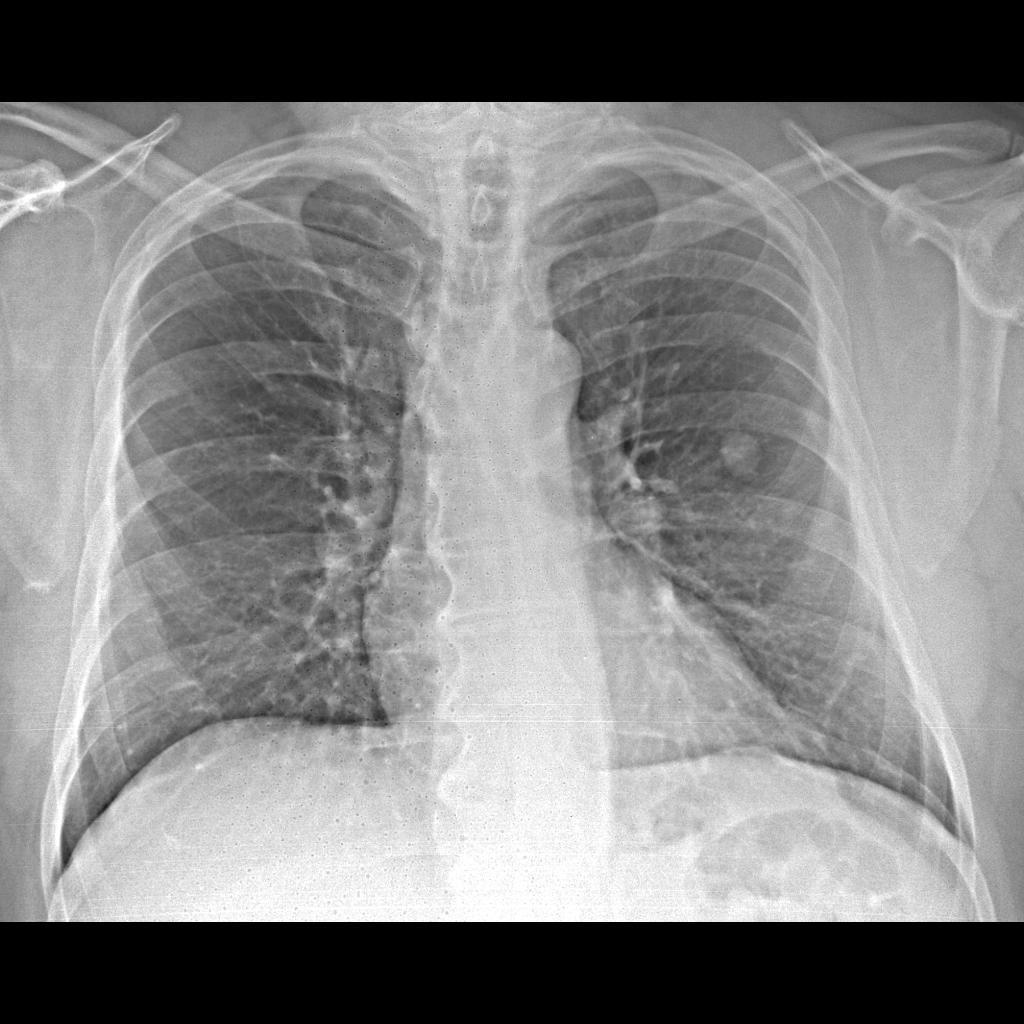Nodule: (712, 429, 771, 484)
